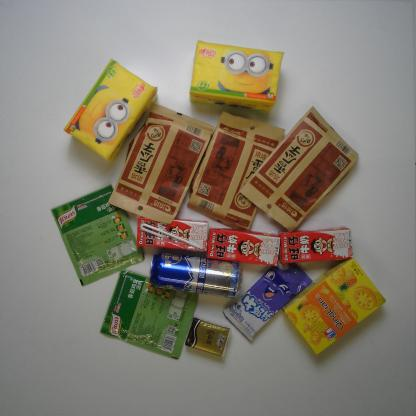Alcohol: (147, 247, 244, 302)
Candy: (222, 262, 314, 344)
Dessert: (282, 257, 388, 356)
Dried Food: (238, 104, 360, 234), (103, 96, 214, 224), (186, 103, 288, 233)
Milk: (276, 224, 353, 264), (206, 228, 281, 268), (136, 216, 208, 252)
Seasoner: (49, 183, 148, 290), (96, 268, 200, 361)
Tissue: (62, 58, 159, 165), (188, 39, 285, 114), (184, 316, 231, 358)
